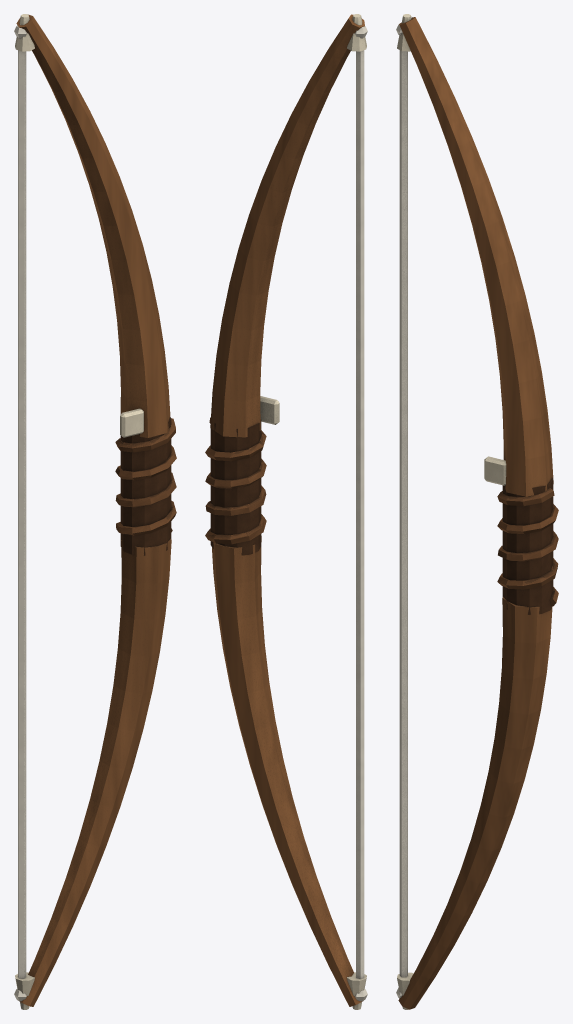
Rendered from 01_plains_ranged.fbx.
3 renders of one model, left to right at view 1: azimuth 30°, elevation 25°; view 2: azimuth 150°, elevation 25°; view 3: azimuth 330°, elevation 25°, orthographic.
Parts seen in each view (by area): view 1: Weapon; view 2: Weapon; view 3: Weapon.
Boxes of the visible parts, x1,y1,x2,y2 form: Weapon: (14,14,176,1009); Weapon: (205,14,367,1009); Weapon: (396,14,558,1009).
Bounding box in the file's own units: 23.31 × 140 × 6.98.
1 material, 1 textured.
